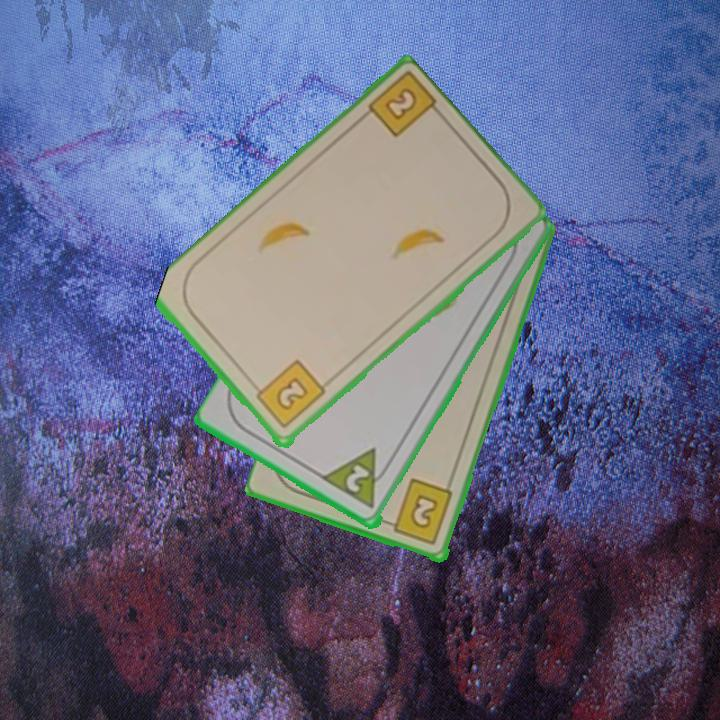2b: (248, 357, 328, 432), (382, 476, 456, 548), (381, 84, 420, 124)
2p: (320, 445, 397, 513)
